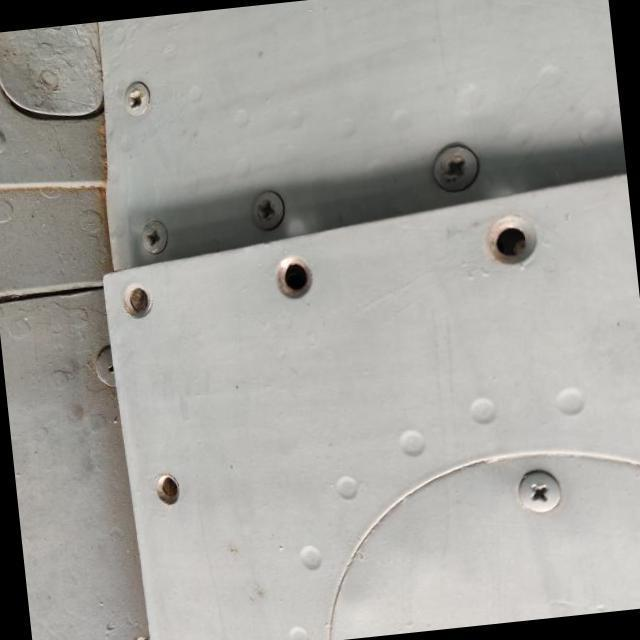Fastener Damage: (444, 182, 556, 292), (244, 240, 340, 339), (128, 453, 210, 531), (99, 268, 180, 338)
